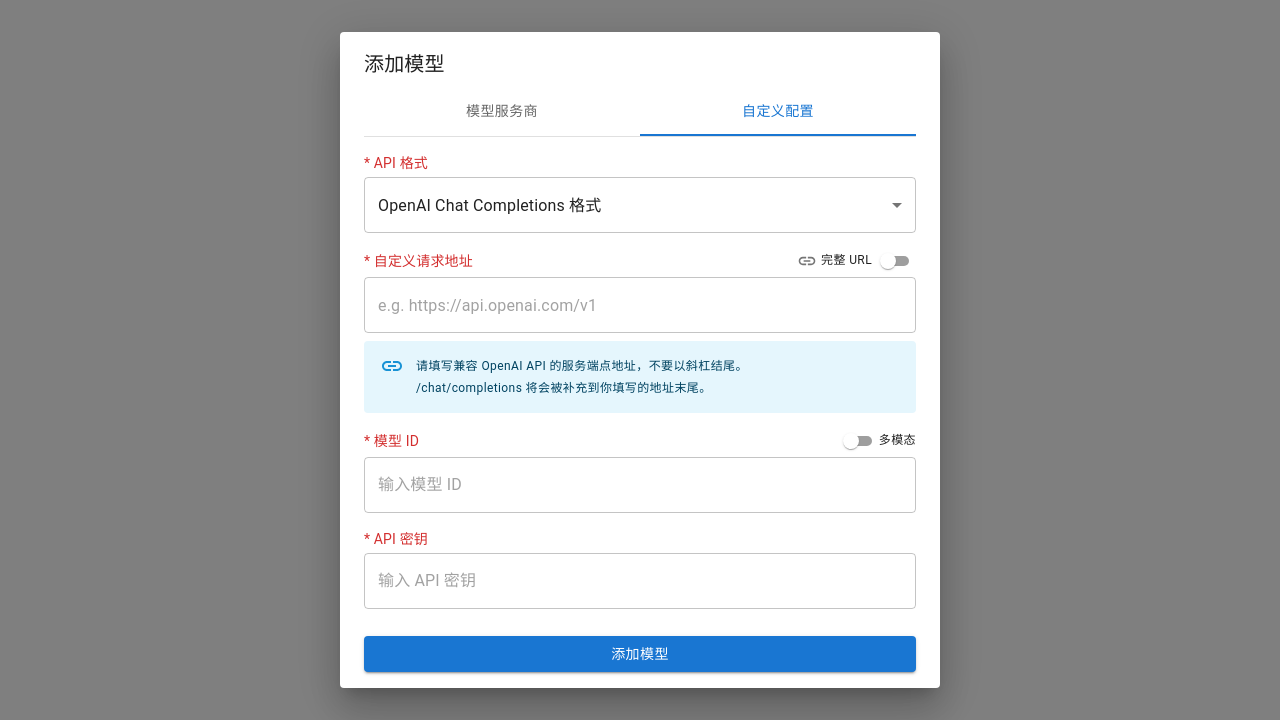
Test: AddModelDialog 组件测试 › Tab 切换功能 › 点击模型服务商 Tab 切换显示
What coordinates should you click on to do the following:
click the tab "模型服务商"
I would click on:
 (502, 112)
Its box is [364,88,640,136].
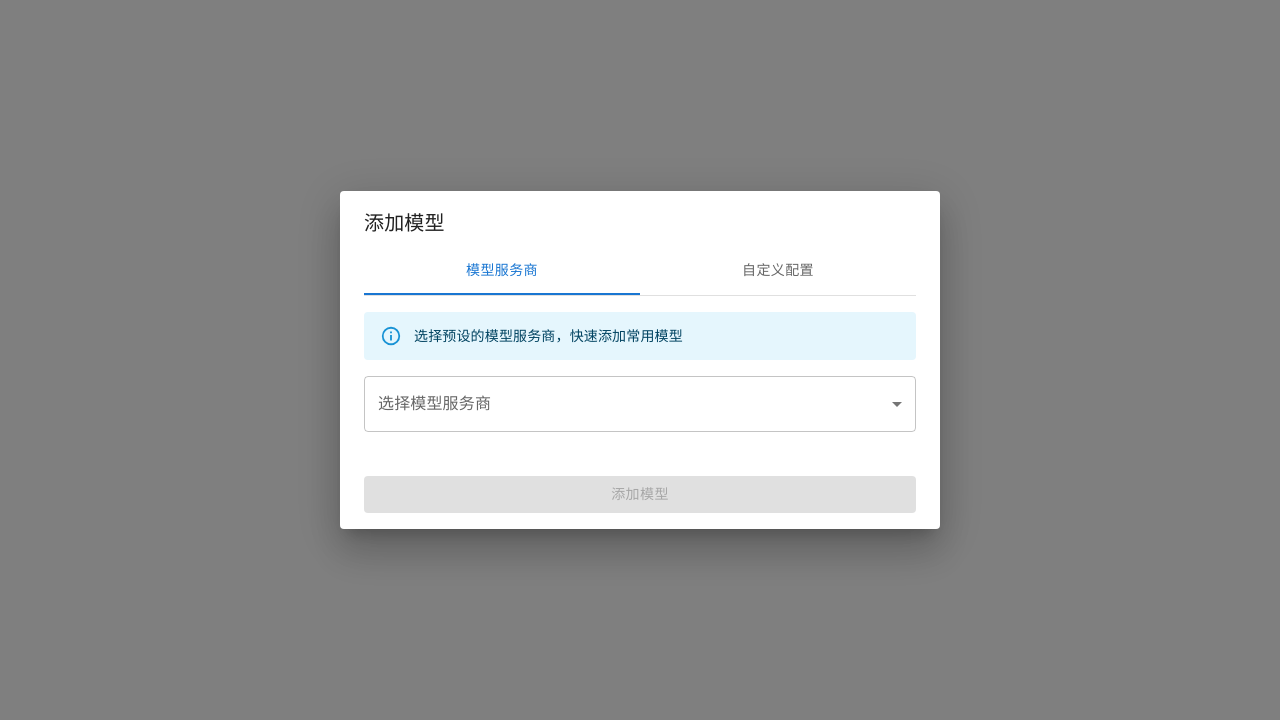
Now the text "选择预设的模型服务商，快速添加常用模型" is shown, box [414,328,683,344]
